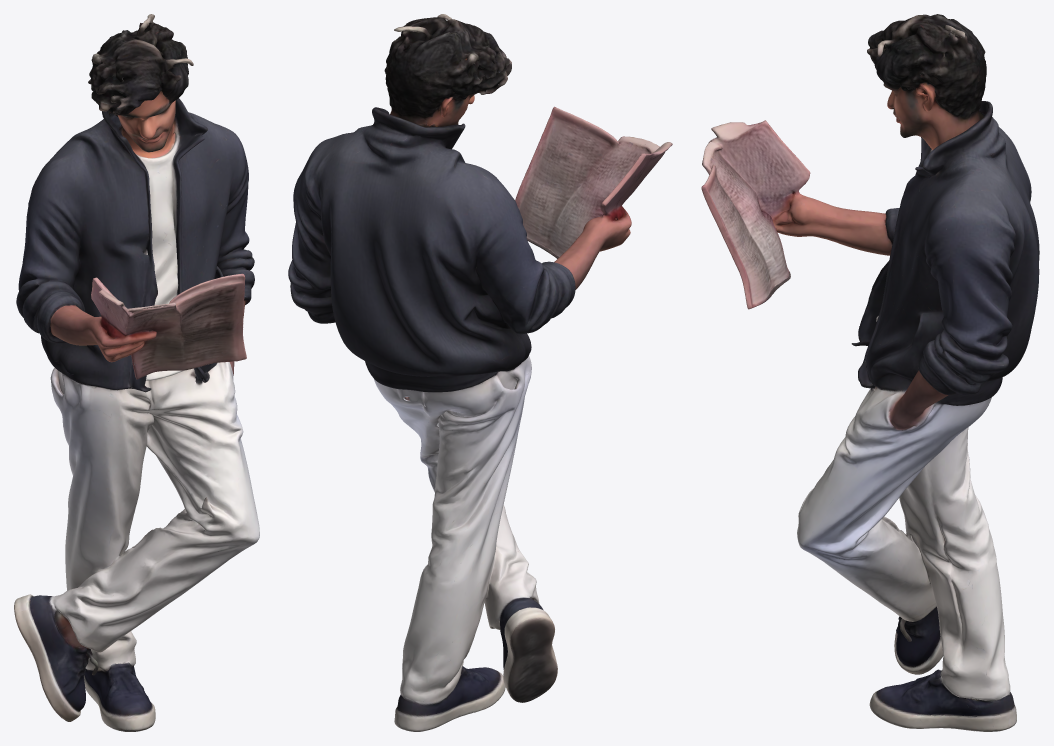
Rendered from arun-reader.glb.
The picture shows the model from 3 angles, left to right: view 1: azimuth 30°, elevation 25°; view 2: azimuth 150°, elevation 25°; view 3: azimuth 270°, elevation 25°; orthographic projection. The views are drawn at different scales.
Parts seen in each view (by area): view 1: world; view 2: world; view 3: world.
Part boxes in pixels (x1,y1,x2,y2): world: [14, 14, 259, 731]; world: [288, 14, 672, 731]; world: [701, 14, 1039, 731].
Bounding box in the file's own units: 0.3978 × 1 × 0.4318.
Materials: 1 (1 with a texture image).
